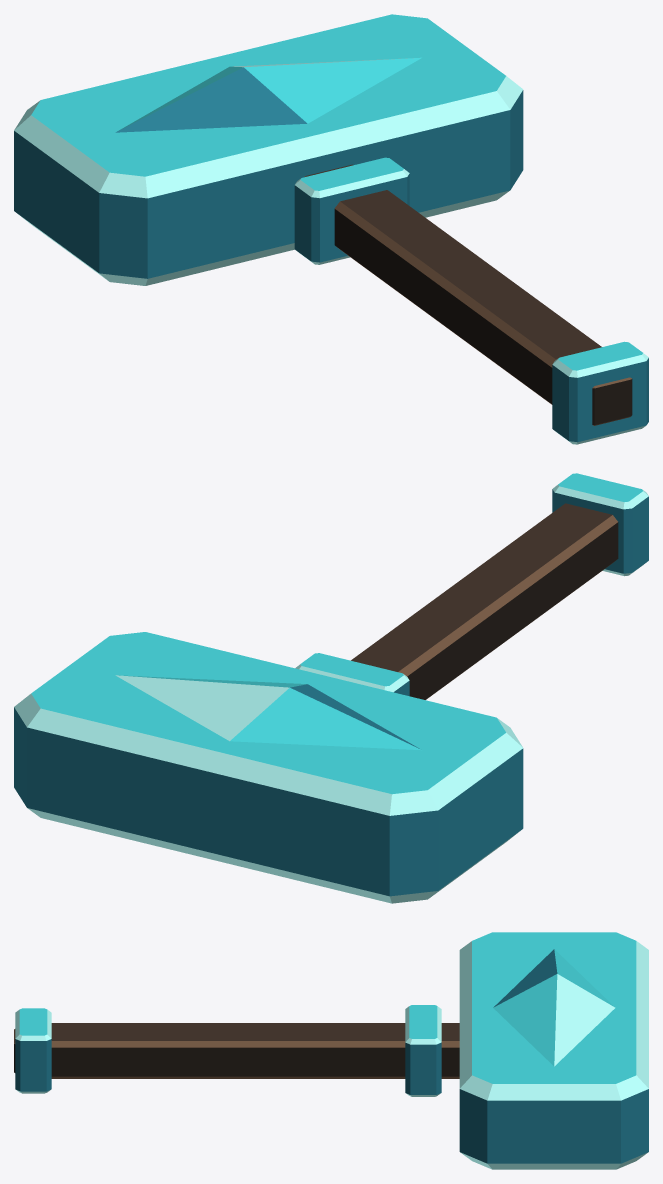
File: diamond_hammer.fbx
3 views of the same model, one above another, from view 1: azimuth 30°, elevation 25°; view 2: azimuth 150°, elevation 25°; view 3: azimuth 270°, elevation 25° (orthographic). The views are drawn at different scales.
Parts seen in each view (by area): view 1: diamond_hammer; view 2: diamond_hammer; view 3: diamond_hammer.
Part boxes in pixels (bbox=[...]): diamond_hammer: bbox=[14, 14, 648, 444]; diamond_hammer: bbox=[14, 473, 648, 903]; diamond_hammer: bbox=[14, 932, 648, 1169].
Bounding box in the file's own units: 1.38 × 0.542 × 2.28.
Materials: 1 (1 with a texture image).
